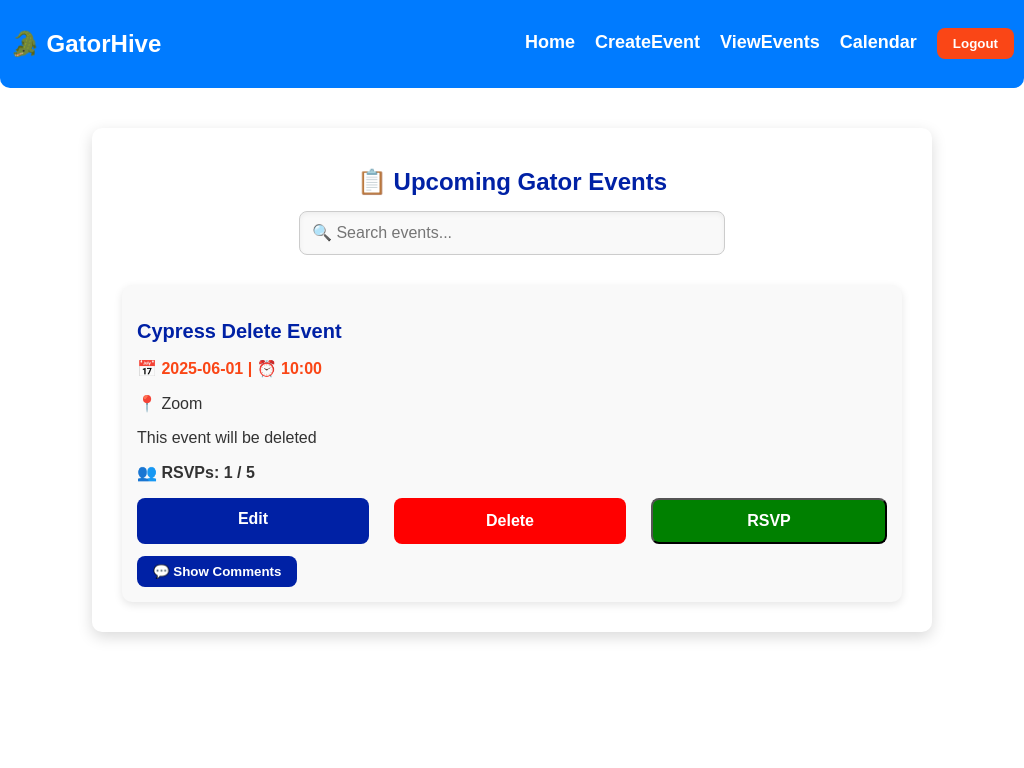
Delete Event › should delete an existing event
The width and height of the screenshot is (1024, 768).
What coordinates should you click on to do the following:
click the button with class "delete-btn"
I would click on:
 (510, 521)
Its box is [394,498,626,544].
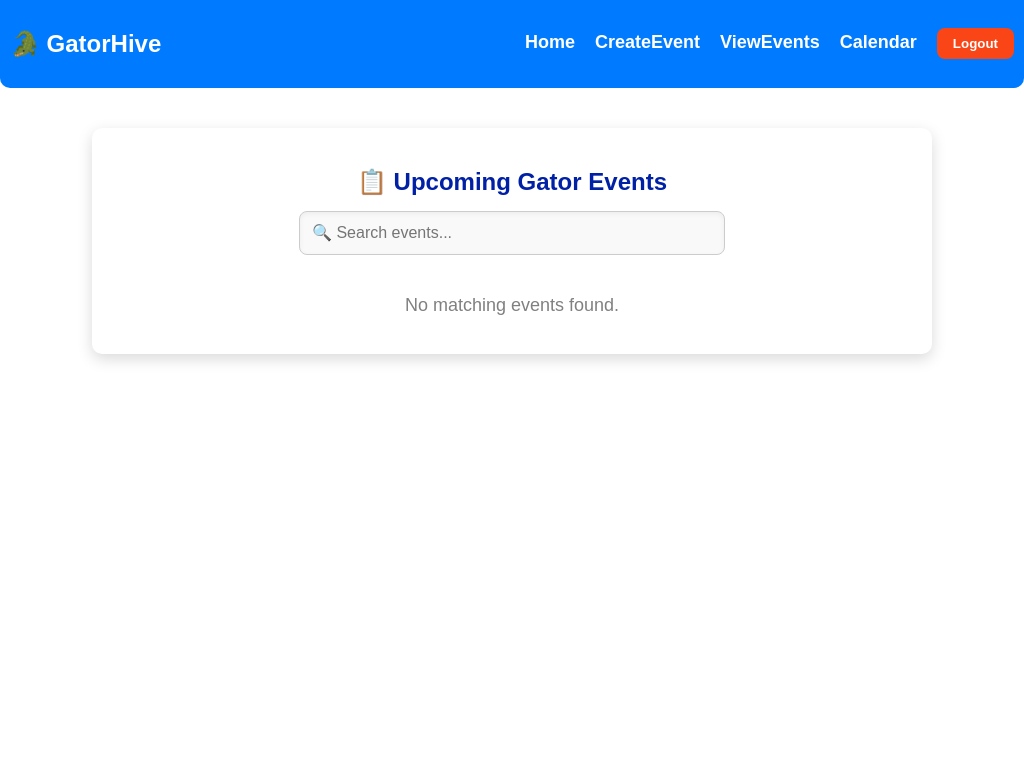
expect the heading "Cypress Delete Event" is gone: met
